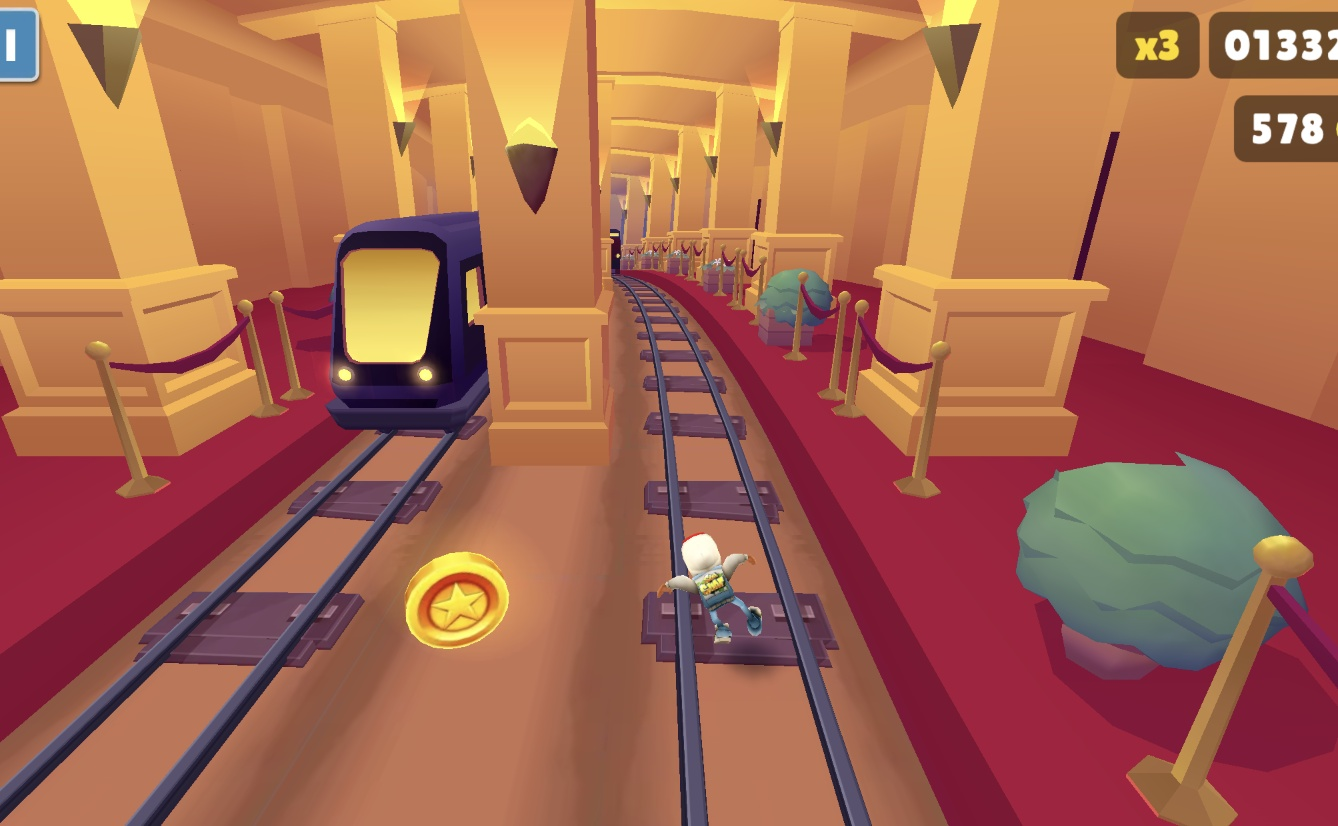pillar: (469, 0, 619, 482)
train: (334, 212, 489, 432)
